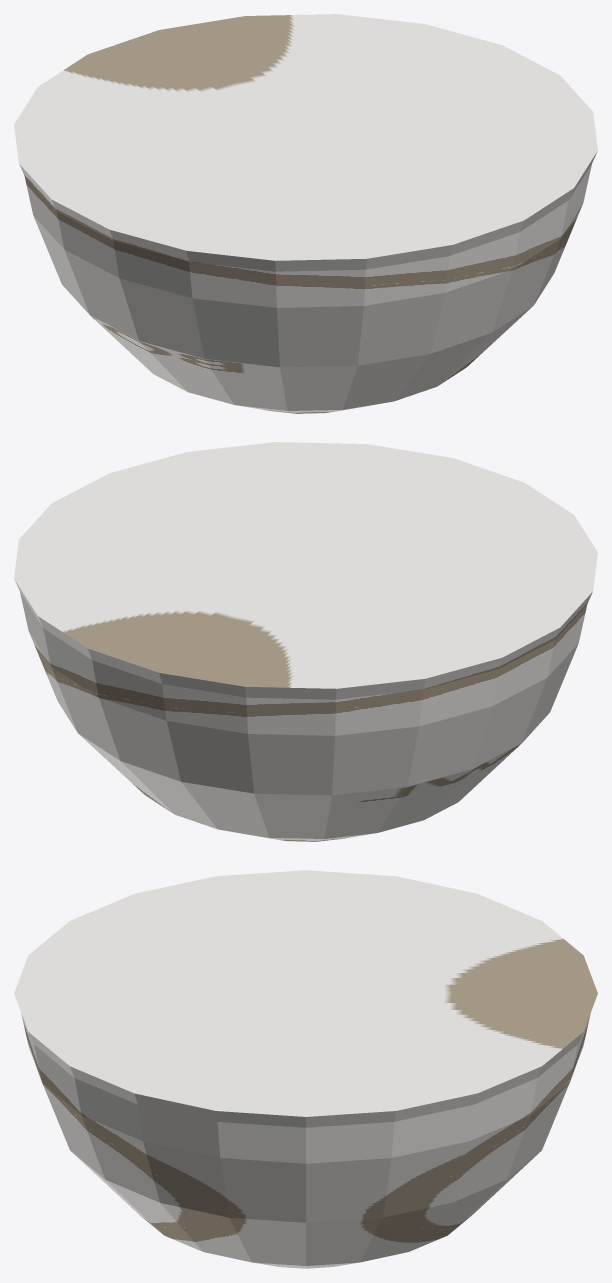
Rendered from bowl.obj.
3 renders of one model, top to bottom at view 1: azimuth 30°, elevation 25°; view 2: azimuth 150°, elevation 25°; view 3: azimuth 270°, elevation 25°, orthographic.
Parts seen in each view (by area): view 1: bowl; view 2: bowl; view 3: bowl.
Part boxes in pixels (x1=…): bowl: x1=14, y1=14, x2=597, y2=413; bowl: x1=14, y1=442, x2=597, y2=841; bowl: x1=14, y1=870, x2=597, y2=1268.
Size of the model in its own units: 0.2 by 0.095 by 0.2.
Materials: 1 (1 with a texture image).
